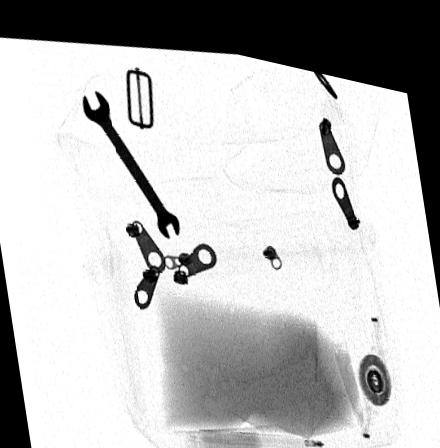Wrench: (82, 83, 181, 230)
